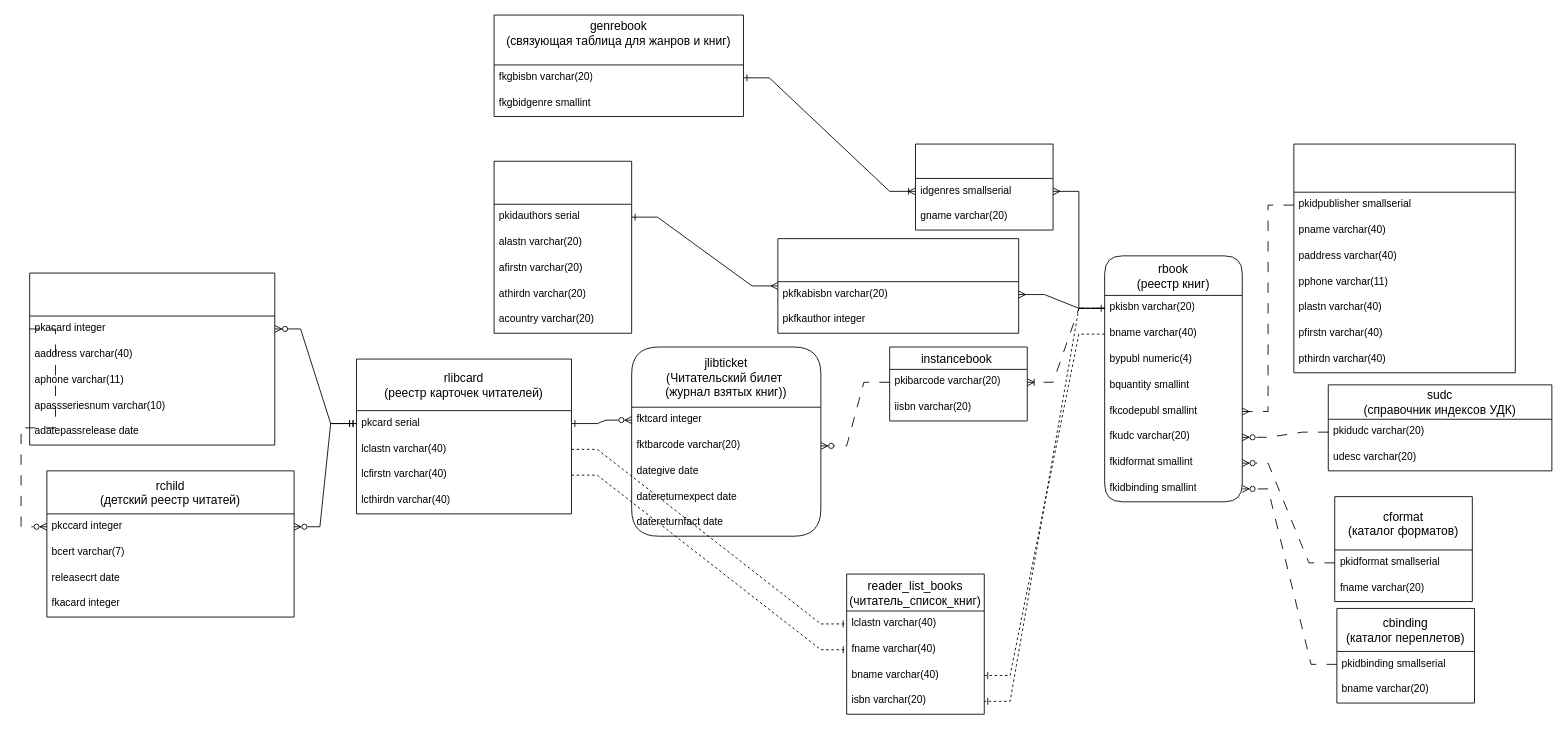
Image size: 1567x732. Some labels were removed from this diagram. The box of each missing label's shape, as (x1, y1, x2, y2) in pixels:
authorbook (связующая таблица авторов и книг): (777, 238, 1019, 333)
cgenre (каталог жанров): (915, 143, 1053, 230)
radult (взрослый реестр читателей): (29, 272, 275, 445)
sauthor (справочник авторов): (493, 160, 632, 333)
spublisher (справочник издательств): (1293, 143, 1515, 373)
